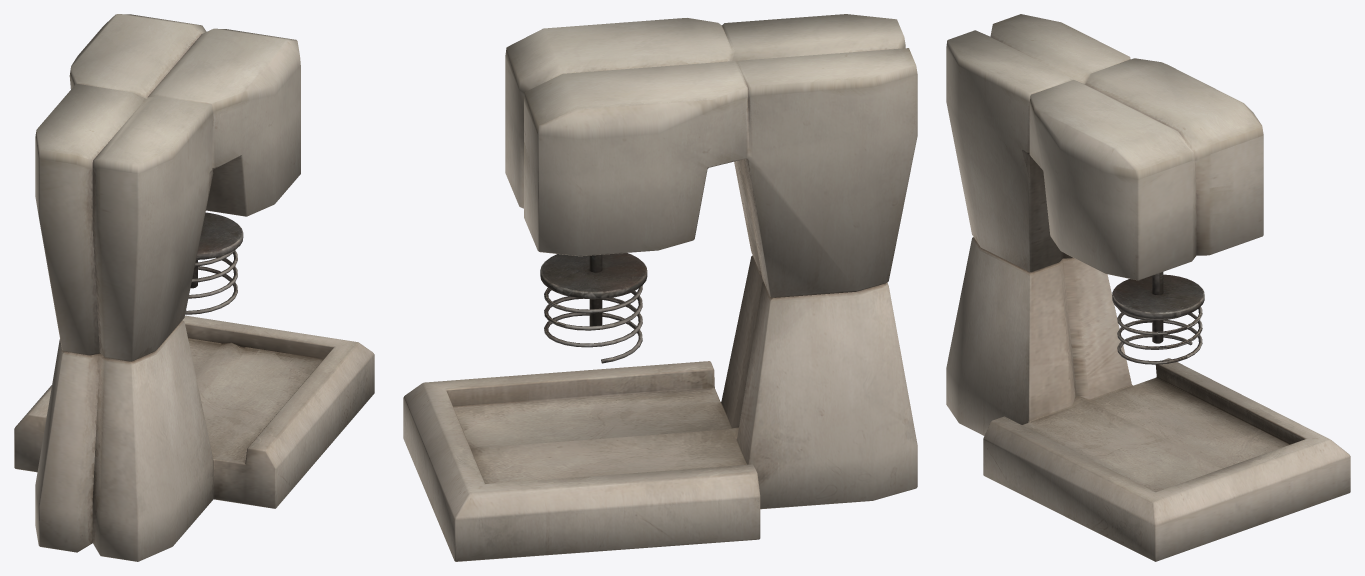
The model's file is PROP_Mixer_01.fbx.
3 views of the same model, side by side, from view 1: azimuth 30°, elevation 25°; view 2: azimuth 150°, elevation 25°; view 3: azimuth 270°, elevation 25° (orthographic). The views are drawn at different scales.
Parts seen in each view (by area): view 1: PROP_Mixer_01; view 2: PROP_Mixer_01; view 3: PROP_Mixer_01.
Part boxes in pixels (left/top/right/bottom): PROP_Mixer_01: left=14, top=14, right=374, bottom=561; PROP_Mixer_01: left=403, top=14, right=917, bottom=561; PROP_Mixer_01: left=946, top=14, right=1350, bottom=561.
Size of the model in its own units: 18.84 by 17.48 by 17.54.
